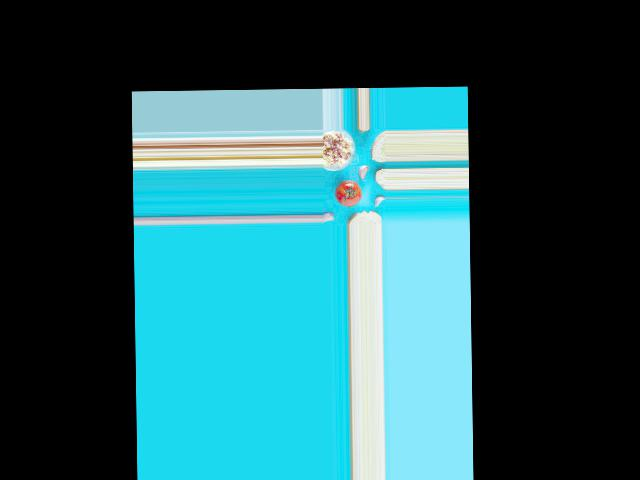tomato: (334, 181, 361, 207)
